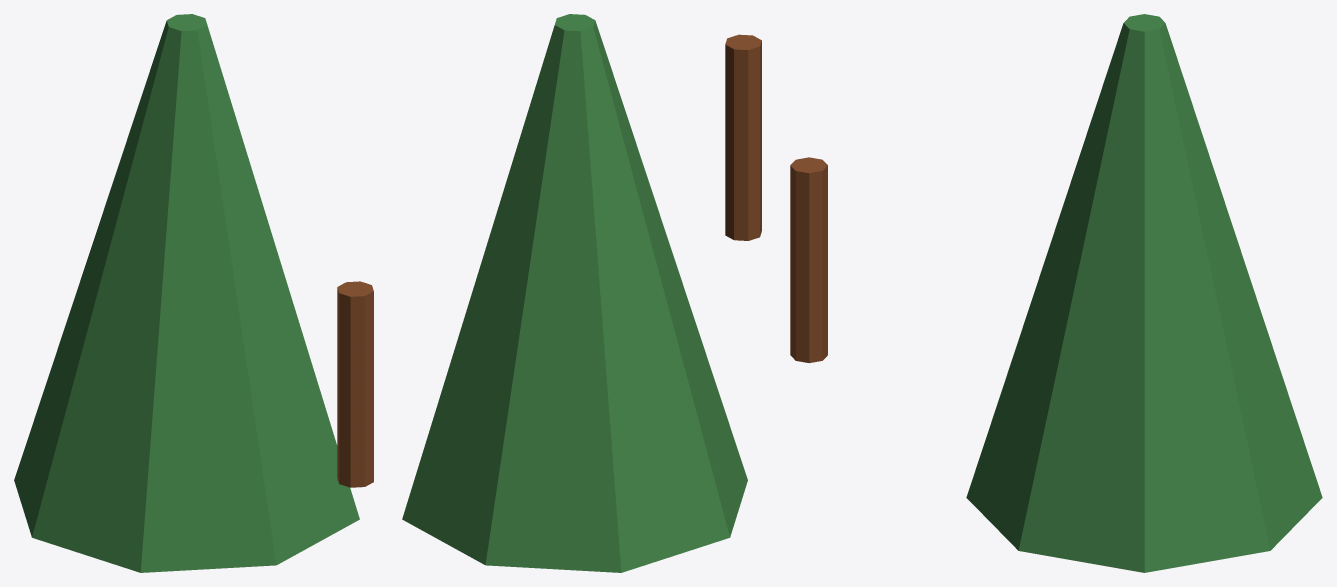
Rendered from conifer_tree.glb.
The picture shows the model from 3 angles, left to right: view 1: azimuth 30°, elevation 25°; view 2: azimuth 150°, elevation 25°; view 3: azimuth 270°, elevation 25°; orthographic projection.
Parts seen in each view (by area): view 1: canopy, trunk; view 2: canopy, trunk; view 3: canopy, trunk.
Part boxes in pixels (bbox=[...]): canopy: bbox=[14, 14, 359, 572]; trunk: bbox=[337, 281, 373, 487]; canopy: bbox=[402, 14, 747, 572]; trunk: bbox=[725, 34, 761, 240]; canopy: bbox=[966, 14, 1322, 572]; trunk: bbox=[790, 157, 827, 363].
Bounding box in the file's own units: 3.4 × 5 × 5.08.
